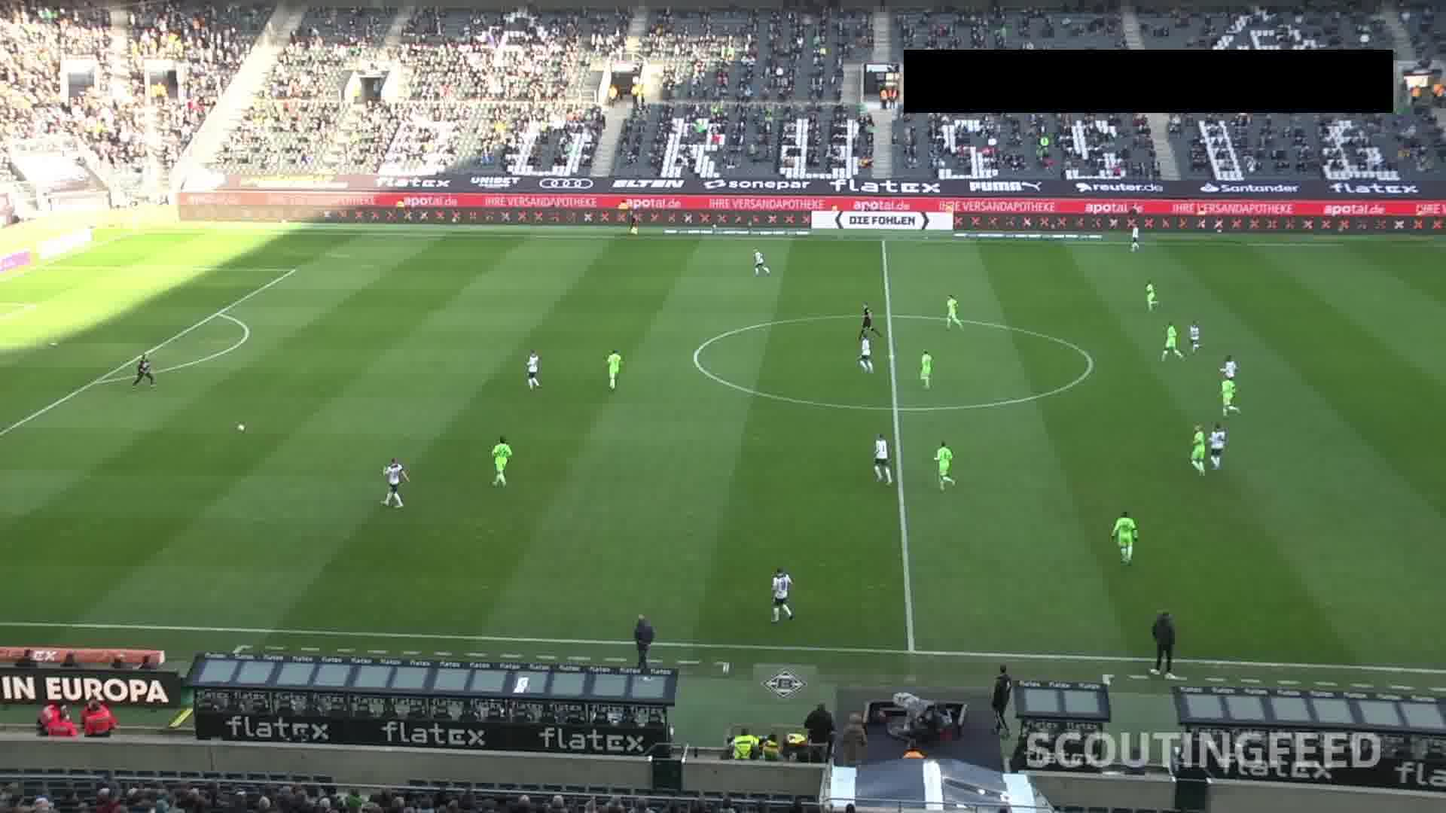ball: (235, 417, 246, 434)
coach_staff: (619, 614, 660, 675), (1149, 602, 1179, 665)
goalkeeper: (132, 348, 158, 390)
player: (766, 565, 795, 625), (1216, 346, 1251, 393), (379, 455, 413, 503), (1209, 417, 1241, 465), (1112, 508, 1140, 558), (869, 427, 892, 481), (488, 434, 510, 487), (1155, 316, 1180, 360), (930, 439, 954, 484), (911, 344, 935, 389), (604, 341, 624, 394), (520, 346, 544, 389), (1189, 321, 1216, 353), (1186, 419, 1202, 472), (941, 294, 963, 330), (746, 243, 767, 275), (857, 331, 872, 373), (1143, 279, 1160, 310), (1219, 373, 1231, 409), (1130, 225, 1141, 247)
referee: (854, 296, 874, 334), (620, 208, 641, 236)
